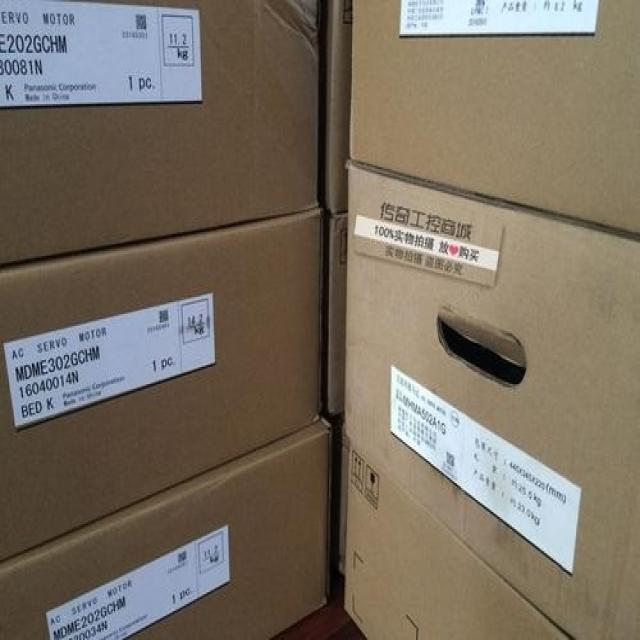box: (343, 162, 639, 638), (0, 207, 322, 561), (0, 2, 322, 265), (1, 416, 330, 638), (348, 1, 639, 239), (343, 441, 567, 638), (315, 4, 352, 211), (324, 208, 350, 414), (335, 411, 352, 574)
